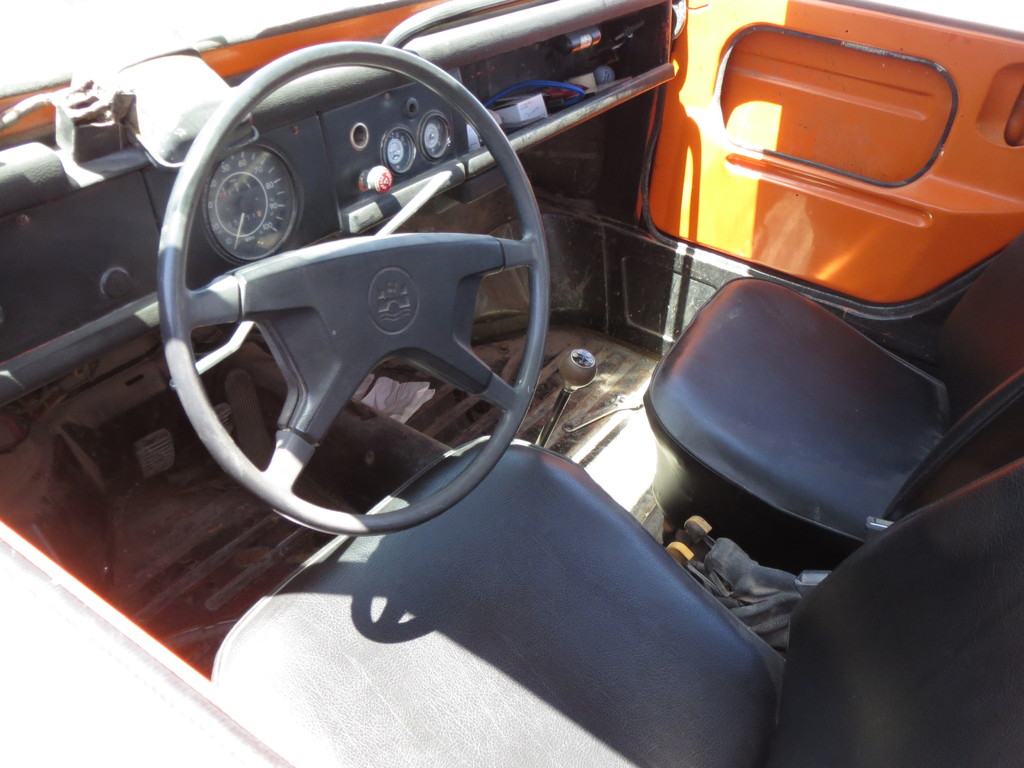Car: (12, 0, 1024, 741)
